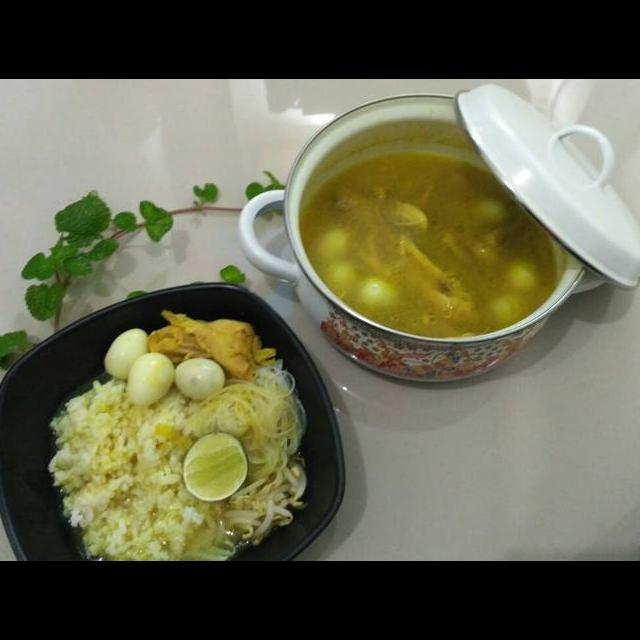Soto: (46, 308, 308, 560), (296, 125, 563, 348)
